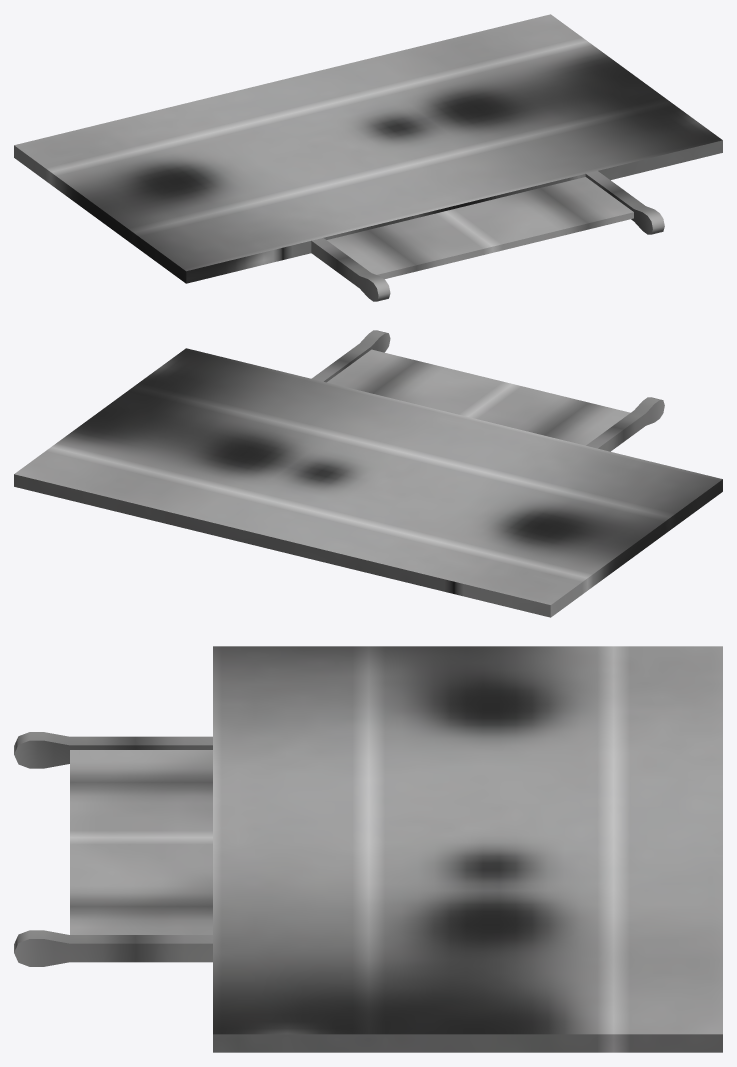
File: 4mv_solar_srf_1.obj
3 views of the same model, one above another, from view 1: azimuth 30°, elevation 25°; view 2: azimuth 150°, elevation 25°; view 3: azimuth 270°, elevation 25° (orthographic). The views are drawn at different scales.
Parts seen in each view (by area): view 1: solar1; view 2: solar1; view 3: solar1.
Boxes of the visible parts, box(x1,y1,x2,y2) form: solar1: box(14, 14, 722, 301); solar1: box(14, 330, 722, 617); solar1: box(14, 646, 722, 1052).
Bounding box in the file's own units: 1.12 × 0.0375 × 0.8688.
